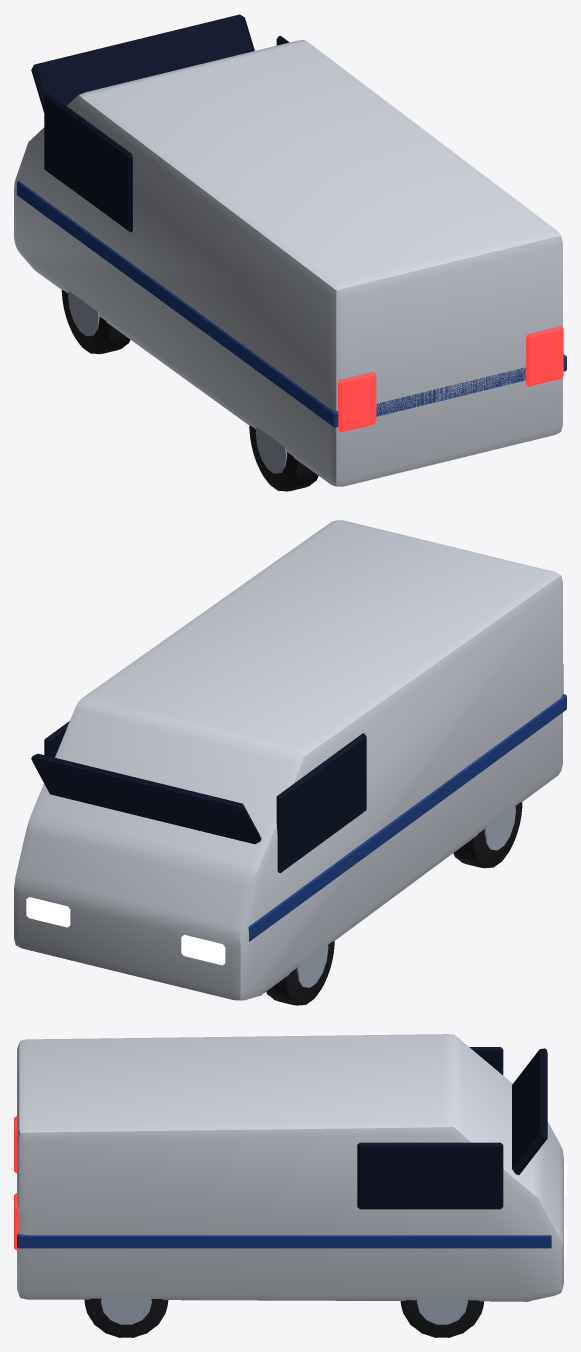
File: car_van.glb
3 renders of one model, top to bottom at view 1: azimuth 30°, elevation 25°; view 2: azimuth 150°, elevation 25°; view 3: azimuth 270°, elevation 25°, orthographic. The views are drawn at different scales.
Parts seen in each view (by area): view 1: paint_white, glass, paint_blue, lamp_red, rubber, steel; view 2: paint_white, glass, paint_blue, rubber, lamp_white, steel; view 3: paint_white, glass, paint_blue, rubber, steel, lamp_red.
Part boxes in pixels (box(x1,y1,x2,y2)): paint_white: box(14, 40, 562, 486); glass: box(31, 14, 289, 232); paint_blue: box(17, 180, 566, 427); lamp_red: box(338, 326, 563, 432); rubber: box(61, 290, 318, 491); steel: box(68, 291, 287, 473); paint_white: box(14, 520, 562, 1000); glass: box(31, 721, 366, 873); paint_blue: box(248, 694, 566, 941); rubber: box(266, 802, 522, 1005); lamp_white: box(26, 897, 225, 965); steel: box(297, 803, 515, 987); paint_white: box(17, 1034, 563, 1301); glass: box(357, 1047, 547, 1209); paint_blue: box(17, 1233, 551, 1248); rubber: box(84, 1298, 484, 1337); steel: box(101, 1295, 467, 1324); lamp_red: box(14, 1116, 18, 1250).
Size of the model in its own units: 1.91 by 1.94 by 4.55.
